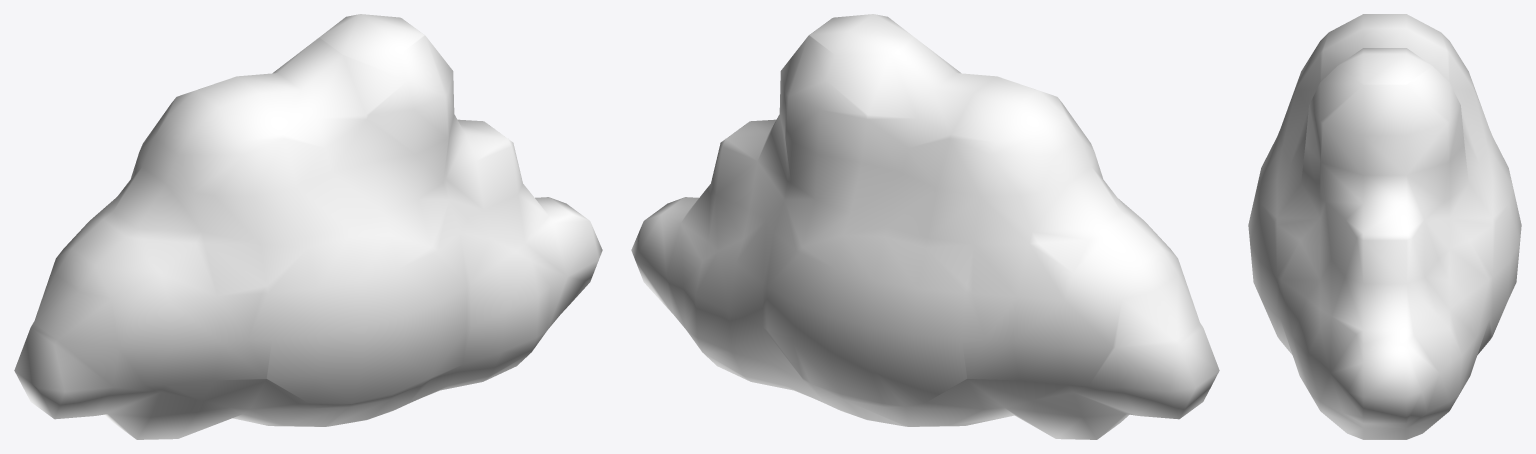
File: cloud4.glb
3 renders of one model, left to right at view 1: azimuth 30°, elevation 25°; view 2: azimuth 150°, elevation 25°; view 3: azimuth 270°, elevation 25°, orthographic. The views are drawn at different scales.
Visible parts, largest first — view 1: Mball.013; view 2: Mball.013; view 3: Mball.013.
Part boxes in pixels (box(x1,y1,x2,y2)): Mball.013: box(14, 14, 602, 439); Mball.013: box(631, 14, 1219, 439); Mball.013: box(1248, 14, 1521, 439).
Bounding box in the file's own units: 4.93 × 3.14 × 2.28.
Materials: 1 (1 with a texture image).
